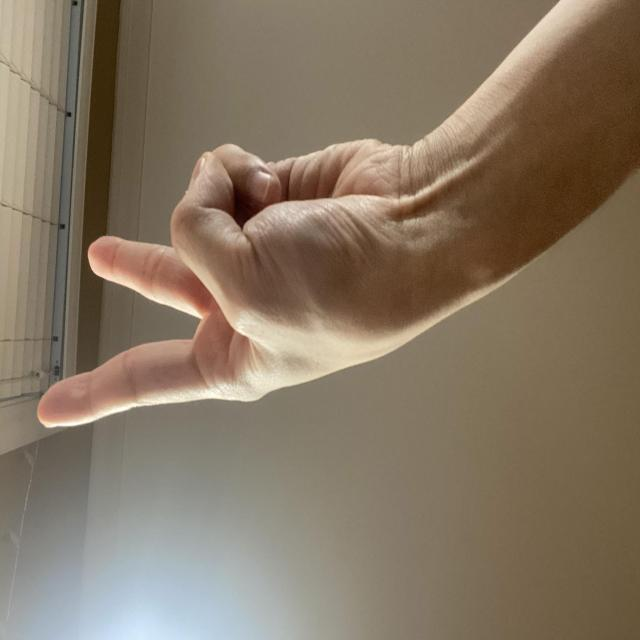V: (146, 29, 392, 599)
